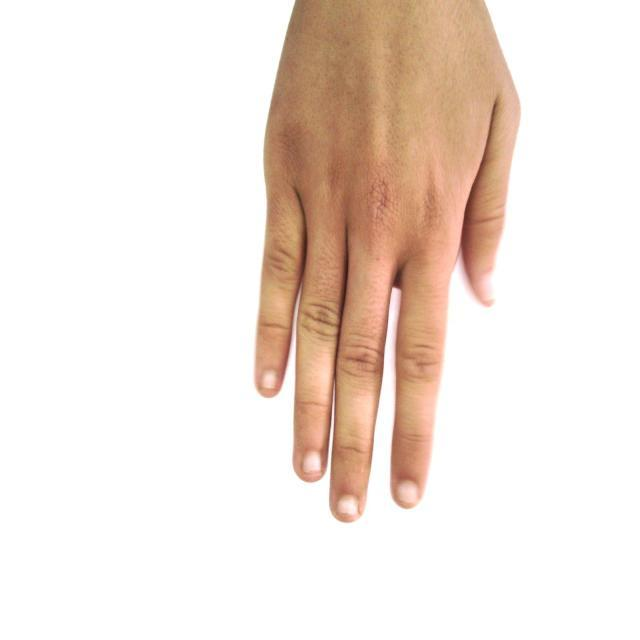Fingernail: (396, 480, 418, 502), (302, 449, 322, 473), (337, 495, 358, 514), (483, 275, 495, 301), (263, 370, 278, 389)
